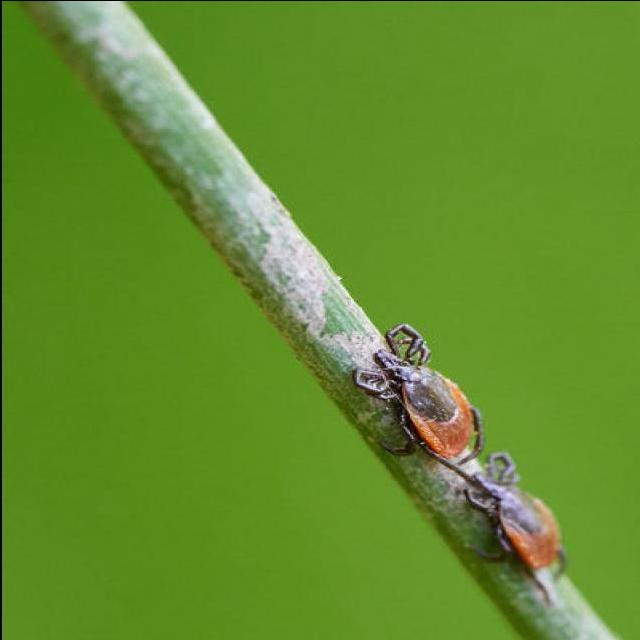Ixodes Ricinus-F: (349, 323, 482, 468), (461, 452, 565, 607)
